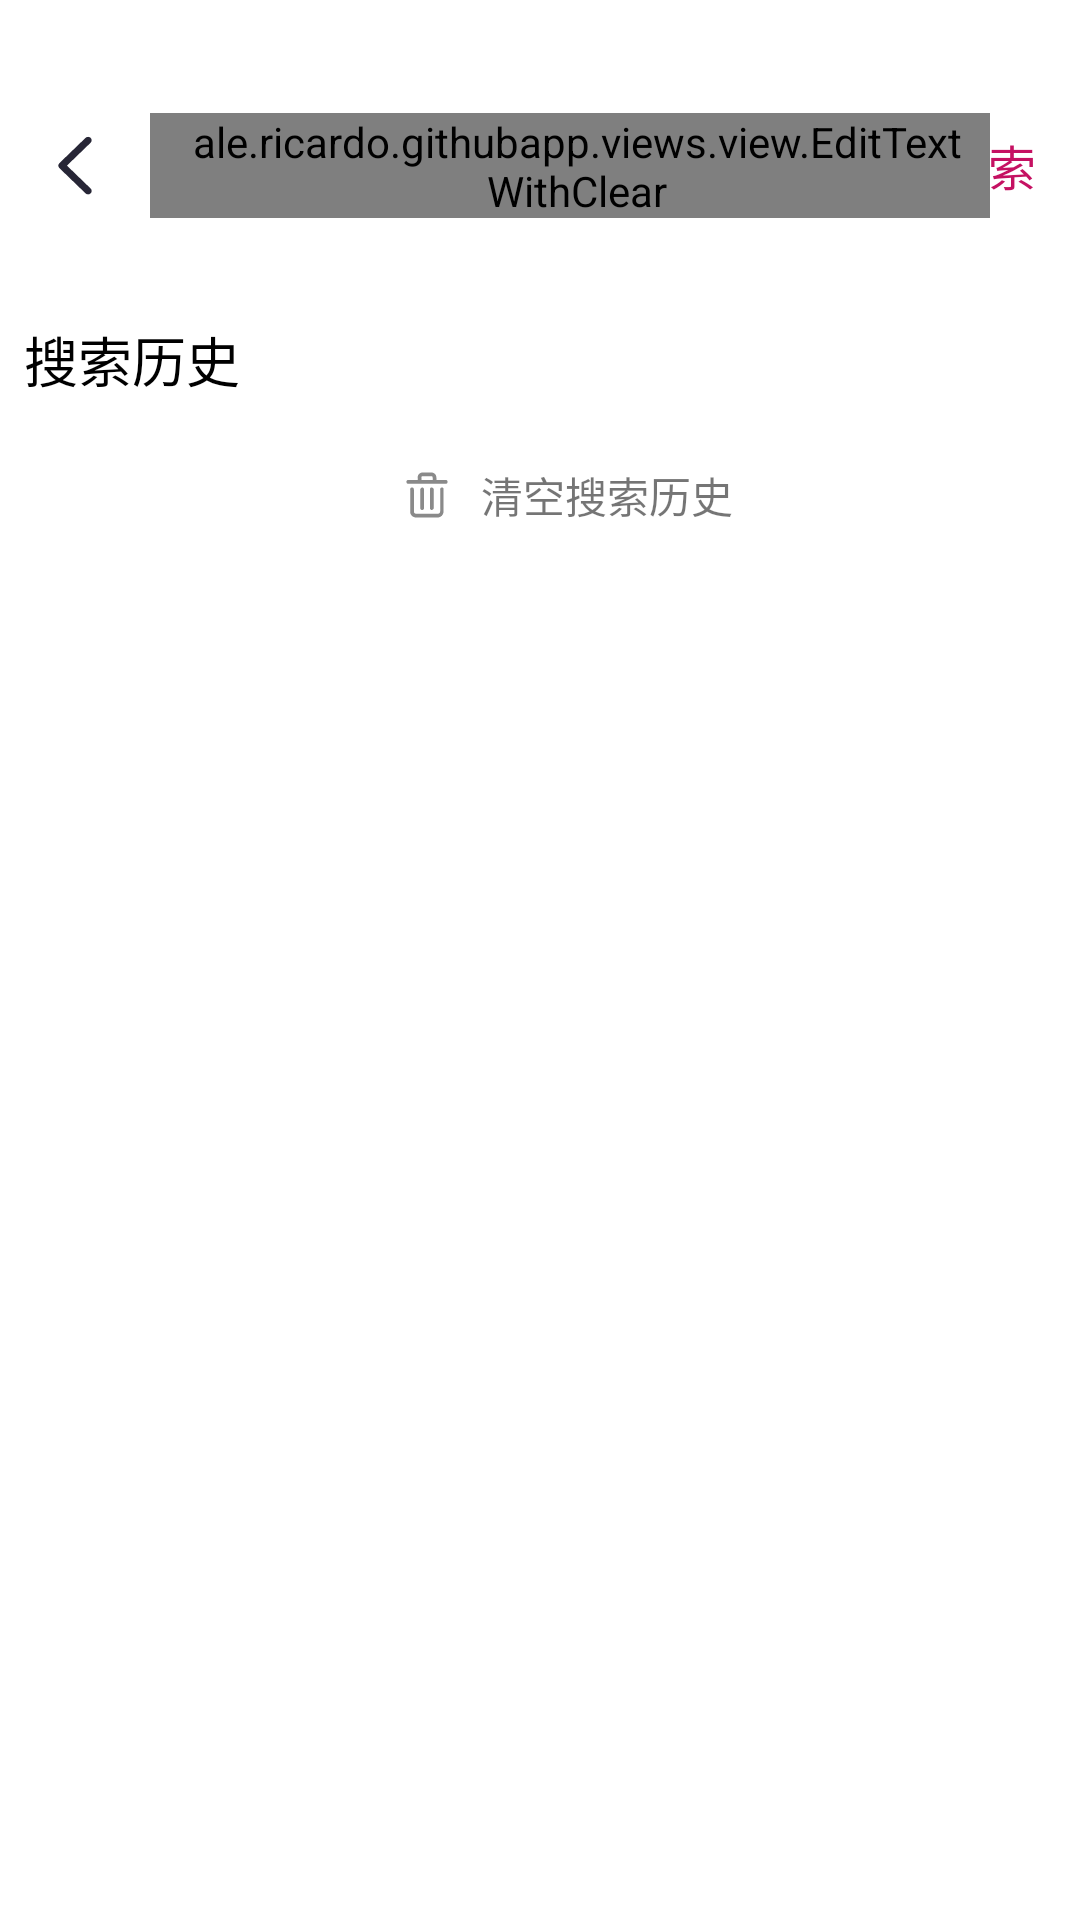

Screen size 1080px x 1920px. Icon name, then its box in pixels as detection(x1, y1, x2, y2):
back: detection(58, 137, 92, 195)
delete: detection(406, 472, 448, 518)
